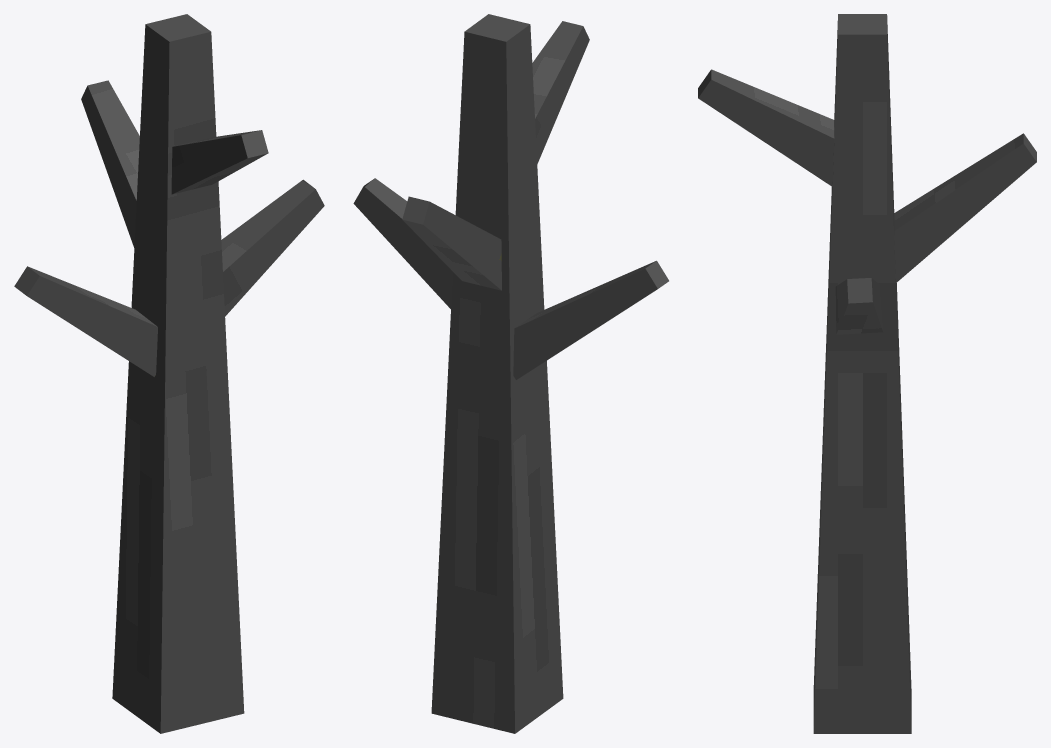
File: dead_tree.gltf
3 views of the same model, side by side, from view 1: azimuth 30°, elevation 25°; view 2: azimuth 150°, elevation 25°; view 3: azimuth 270°, elevation 25° (orthographic).
Visible parts, largest first — view 1: trunk, branch_3 (×2), branch_1, branch_2; view 2: trunk, branch_3 (×2), branch_1, branch_2; view 3: trunk, branch_1, branch_2, branch_3.
Boxes of the visible parts, <box> form: trunk: <box>112,14,244,733</box>; branch_3 (×2): <box>14,179,324,376</box>; branch_1: <box>81,80,139,247</box>; branch_2: <box>171,130,268,194</box>; trunk: <box>431,14,563,733</box>; branch_3 (×2): <box>353,178,668,379</box>; branch_1: <box>402,196,501,290</box>; branch_2: <box>532,21,589,163</box>; trunk: <box>813,14,911,733</box>; branch_1: <box>894,133,1036,282</box>; branch_2: <box>698,69,834,186</box>; branch_3: <box>835,278,883,334</box>.
Size of the model in its own units: 3.61 by 7.75 by 3.45.
Materials: 1 (1 with a texture image).
